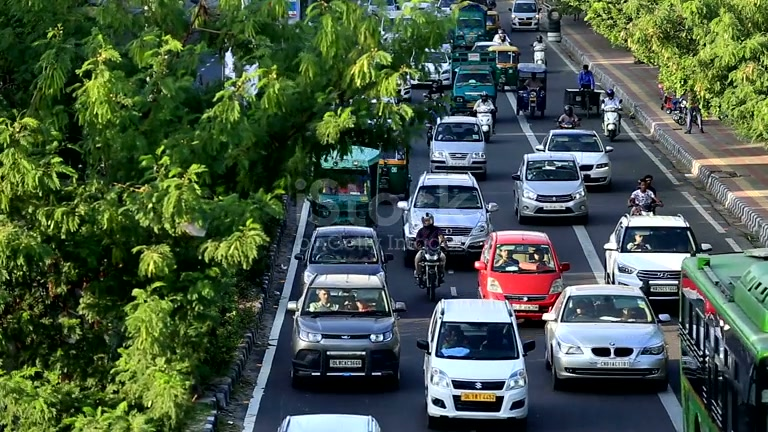bus: (676, 247, 768, 428)
car: (415, 298, 537, 430), (288, 271, 406, 389), (542, 284, 670, 391), (603, 213, 712, 307), (400, 170, 498, 265), (474, 230, 571, 322), (295, 225, 394, 292), (511, 152, 591, 225), (538, 128, 614, 190), (429, 115, 489, 178), (277, 414, 383, 432), (510, 1, 541, 31)
motorcycle: (415, 249, 447, 301), (601, 89, 624, 141)
pedestrian: (413, 226, 447, 284), (628, 174, 663, 216), (600, 87, 623, 139), (312, 288, 336, 311), (557, 105, 580, 129), (578, 63, 596, 91)
truck: (677, 248, 768, 430), (469, 41, 521, 91)
